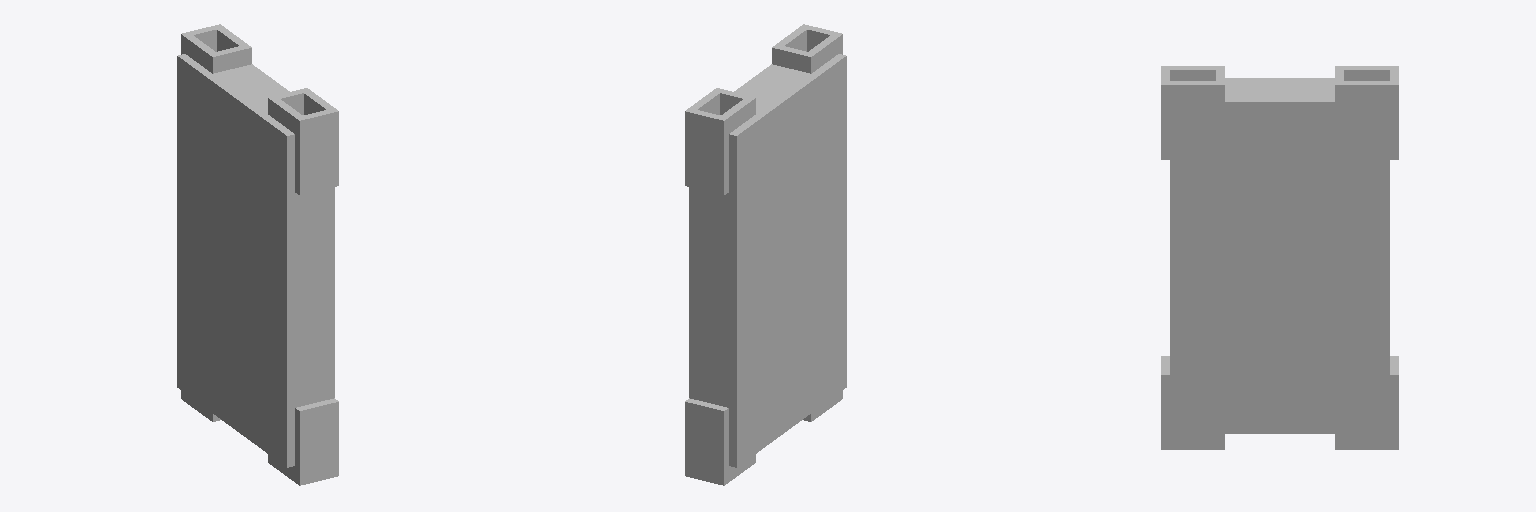
The model's file is floating sign.obj.
The picture shows the model from 3 angles: view 1: azimuth 30°, elevation 25°; view 2: azimuth 150°, elevation 25°; view 3: azimuth 270°, elevation 25°; orthographic projection.
Size of the model in its own units: 6 by 44 by 26.